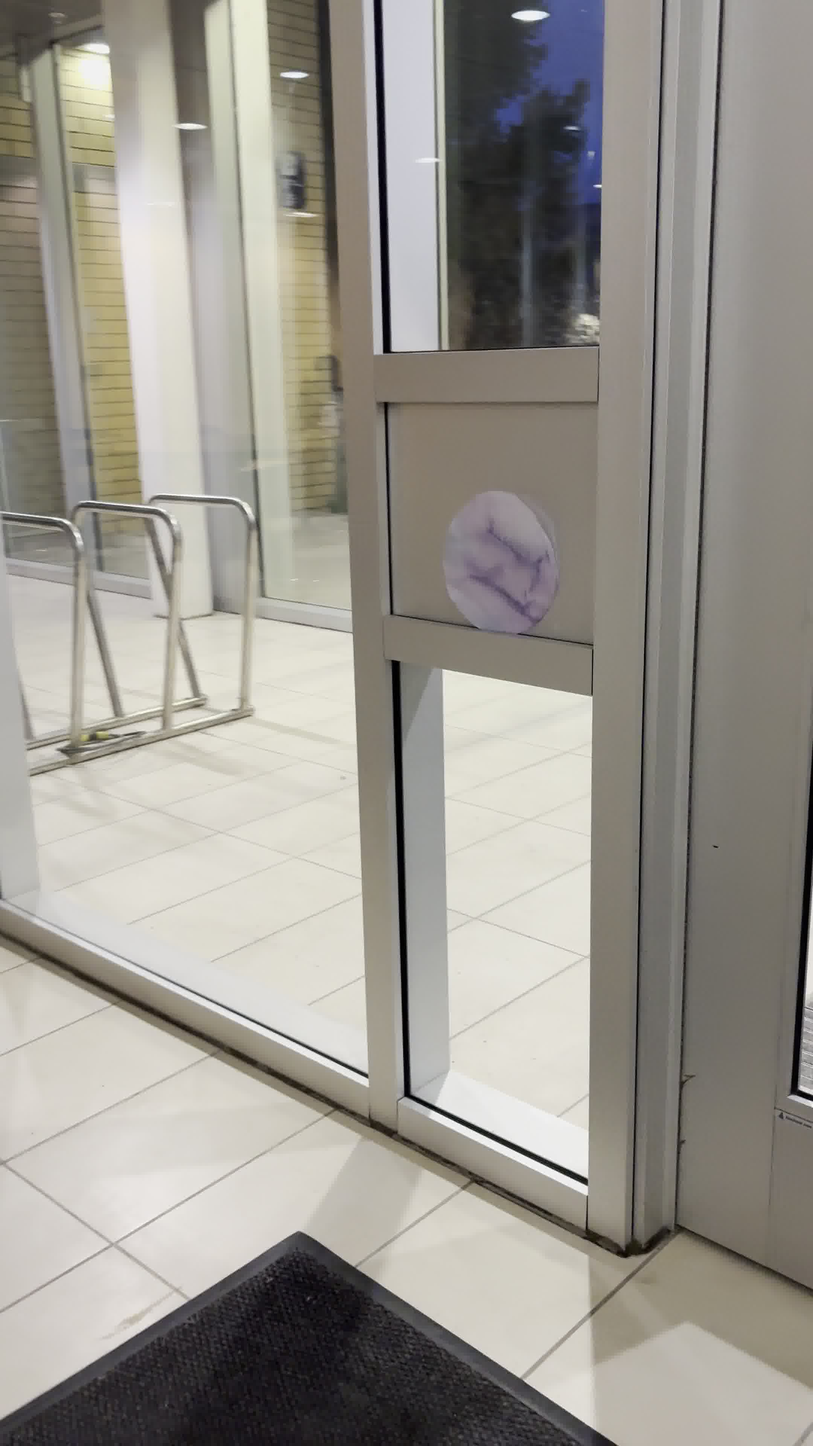Target: (438, 489, 563, 638)
